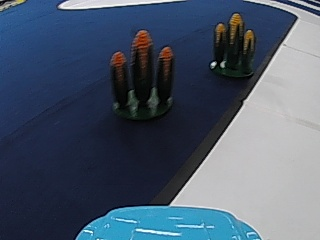corn: (108, 31, 176, 122), (208, 11, 257, 79)
